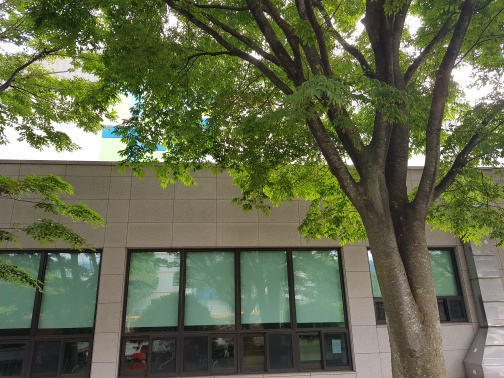Gym: (13, 113, 499, 371)
